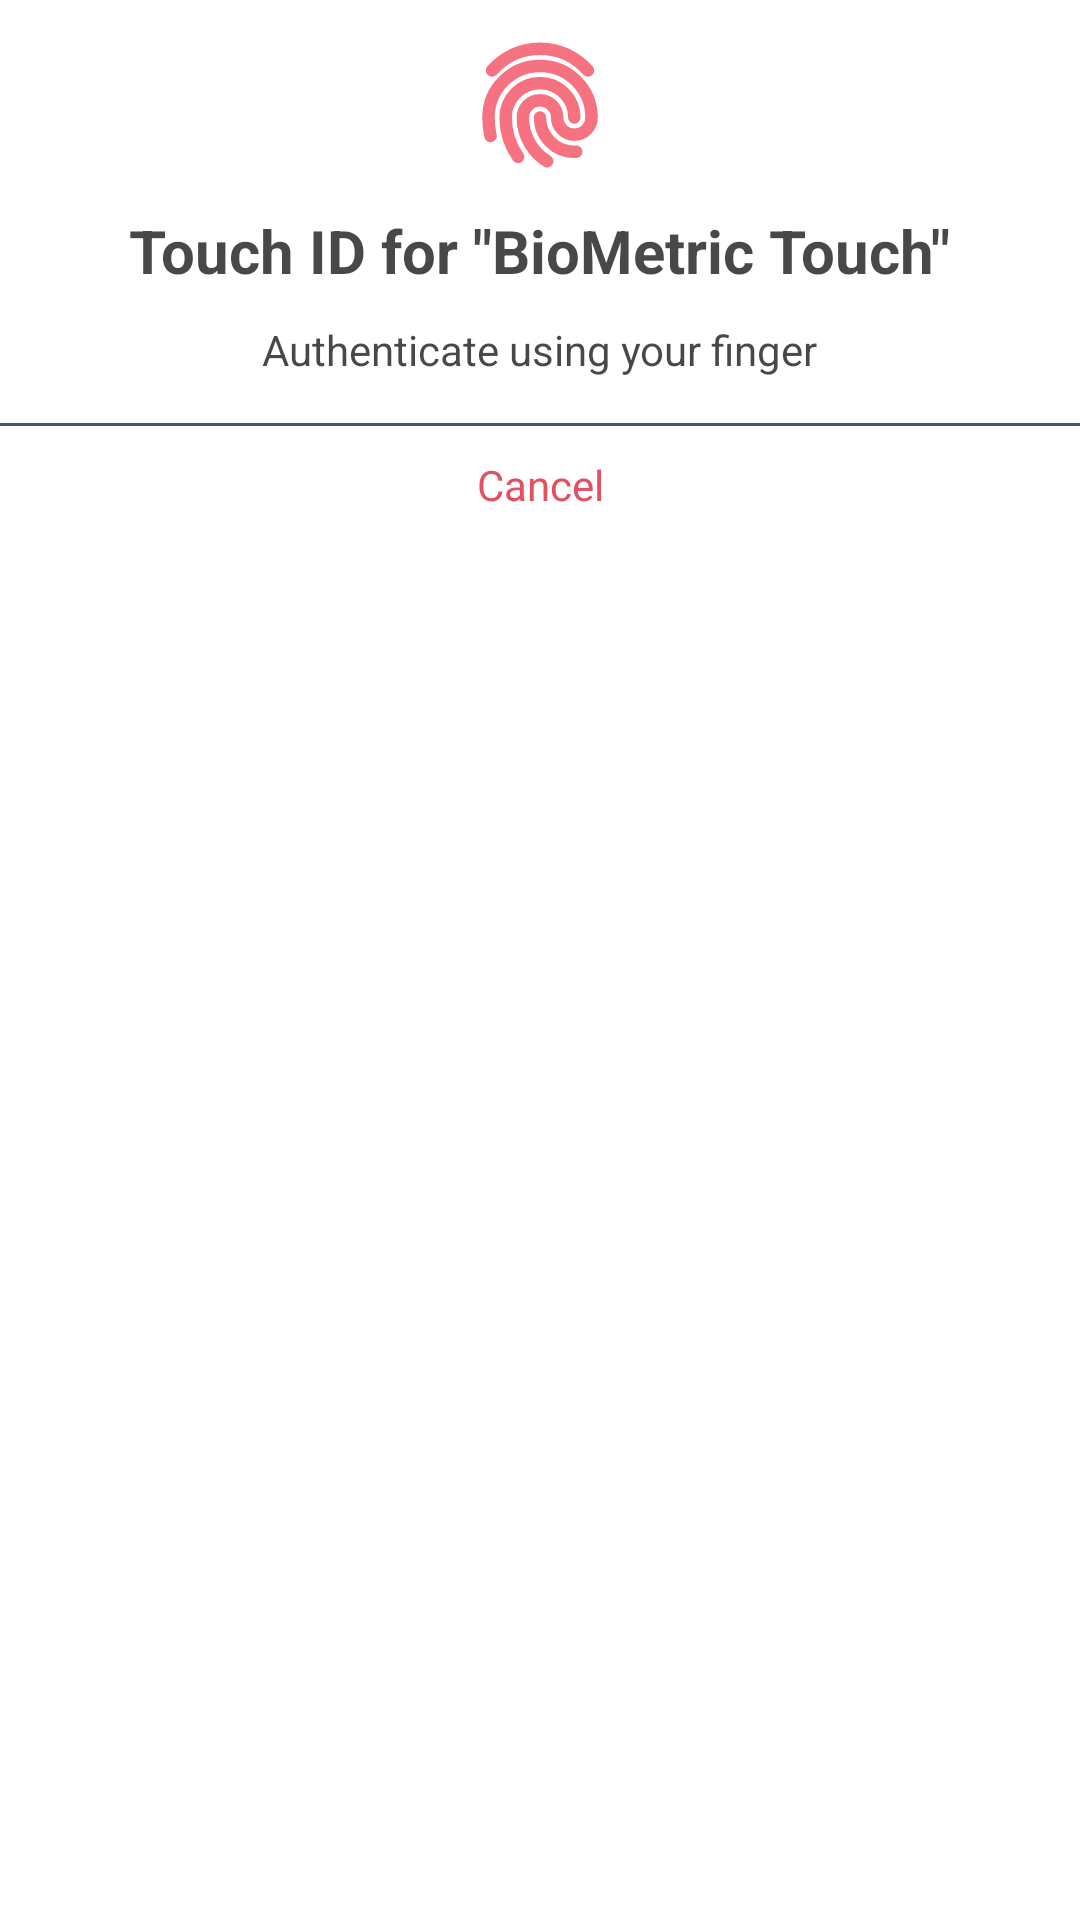

Named icons in this screenshot (1080px x 1920px) and their centers, point (x, y):
fingerprint: point (540, 105)
